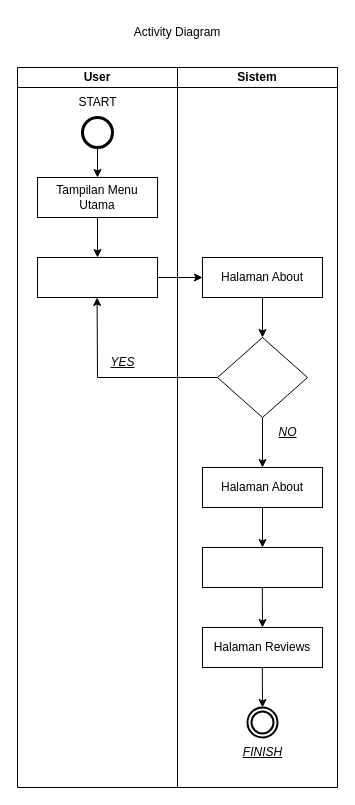
The diagram is 355 pixels wide and 805 high, and some of its shapes have lost their labels. Here are the shapes that lost their labels. From the top down, the centre of each, then its label:
point 97,277: Klik Get Started
point 262,377: Back To Top?
point 262,567: Halaman Brands
